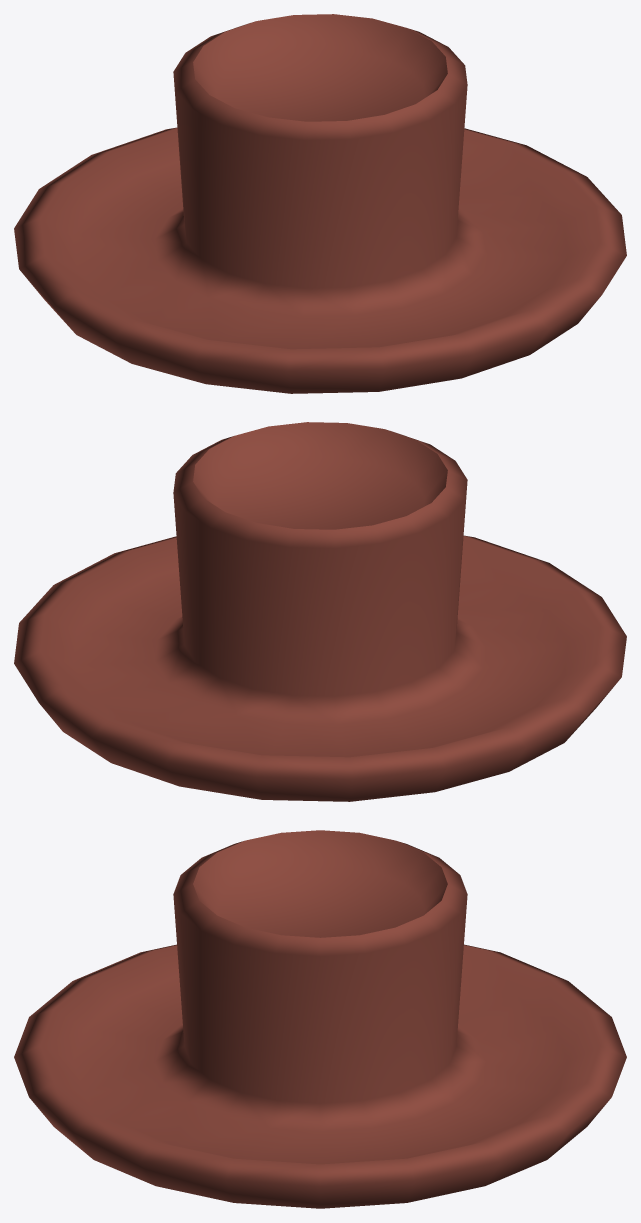
Rendered from Candle_04_Base.fbx.
3 renders of one model, top to bottom at view 1: azimuth 30°, elevation 25°; view 2: azimuth 150°, elevation 25°; view 3: azimuth 270°, elevation 25°, orthographic.
Parts seen in each view (by area): view 1: Candle_04_Base; view 2: Candle_04_Base; view 3: Candle_04_Base.
Boxes of the visible parts, x1=… form: Candle_04_Base: x1=14, y1=14, x2=626, y2=393; Candle_04_Base: x1=14, y1=422, x2=626, y2=801; Candle_04_Base: x1=14, y1=830, x2=626, y2=1208.
Bounding box in the file's own units: 23.8 × 8.84 × 23.8.
